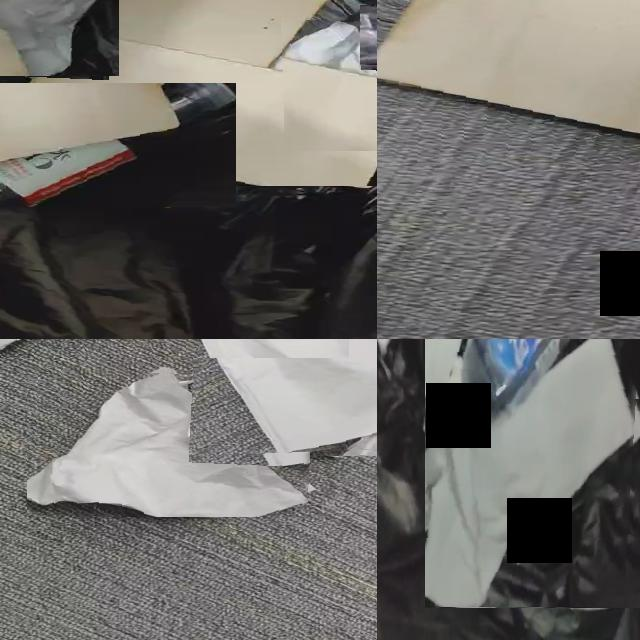bottle: (0, 83, 236, 205), (459, 339, 559, 420)
carton: (22, 0, 377, 186), (377, 0, 640, 132)
paper: (425, 339, 636, 607), (424, 339, 631, 608), (27, 372, 309, 517), (207, 339, 377, 454), (0, 0, 97, 76), (283, 21, 377, 78)
